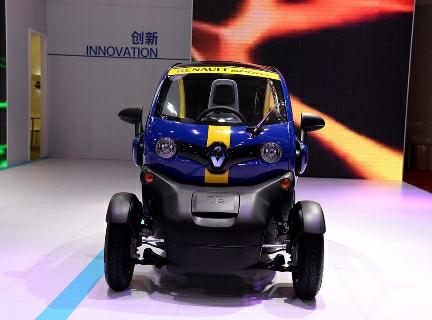雷诺-Twizy: (95, 56, 336, 308)
